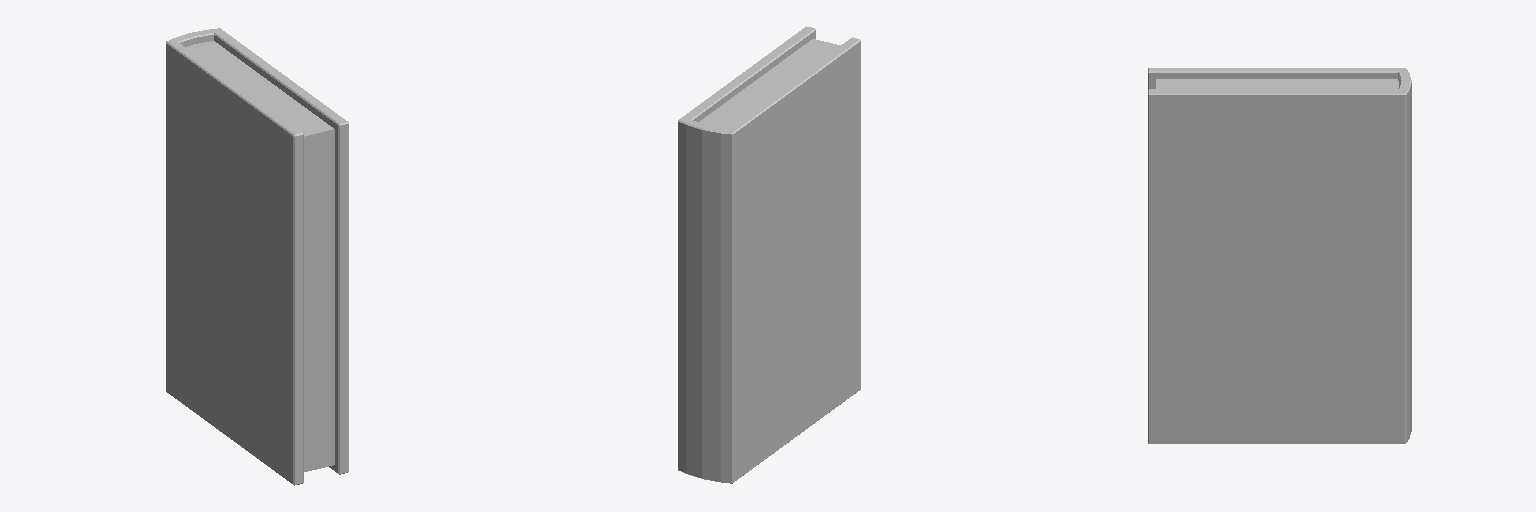
Rendered from Libro.obj.
3 views of the same model, side by side, from view 1: azimuth 30°, elevation 25°; view 2: azimuth 150°, elevation 25°; view 3: azimuth 270°, elevation 25° (orthographic).
Parts seen in each view (by area): view 1: Libro; view 2: Libro; view 3: Libro.
Boxes of the visible parts, x1=… form: Libro: x1=166, y1=28, x2=348, y2=485; Libro: x1=678, y1=26, x2=860, y2=483; Libro: x1=1148, y1=68, x2=1411, y2=443.
Bounding box in the file's own units: 3.12 × 18.73 × 12.76.